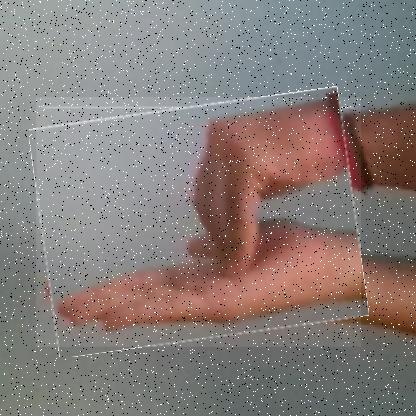Z: (35, 97, 361, 348)
